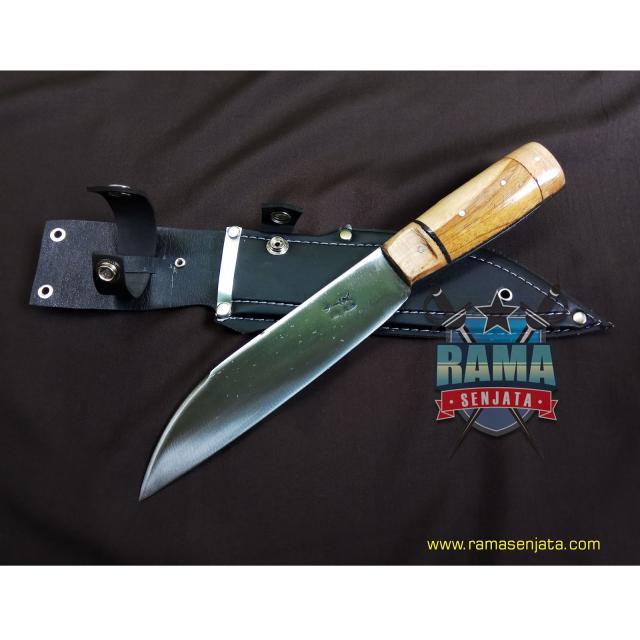Pisau: (124, 116, 583, 522)
